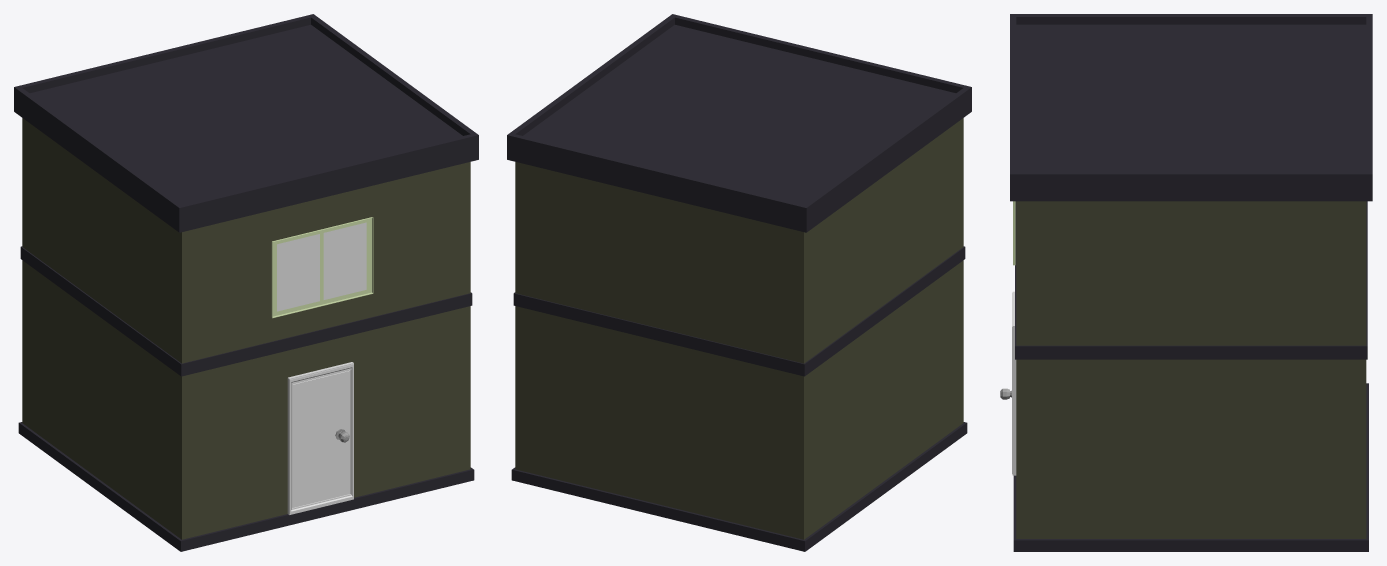
Rendered from building5.fbx.
3 renders of one model, left to right at view 1: azimuth 30°, elevation 25°; view 2: azimuth 150°, elevation 25°; view 3: azimuth 270°, elevation 25°, orthographic. The views are drawn at different scales.
Parts seen in each view (by area): view 1: building5, Door corners.008, Window.017; view 2: building5; view 3: building5, Door corners.008.
Part boxes in pixels (x1,y1,x2,y2): building5: (14,14,478,551); Door corners.008: (287,362,353,514); Window.017: (271,217,373,318); building5: (507,14,971,551); building5: (1010,14,1372,551); Door corners.008: (1012,291,1016,475).
Bounding box in the file's own units: 9.56 × 10.55 × 9.39.
